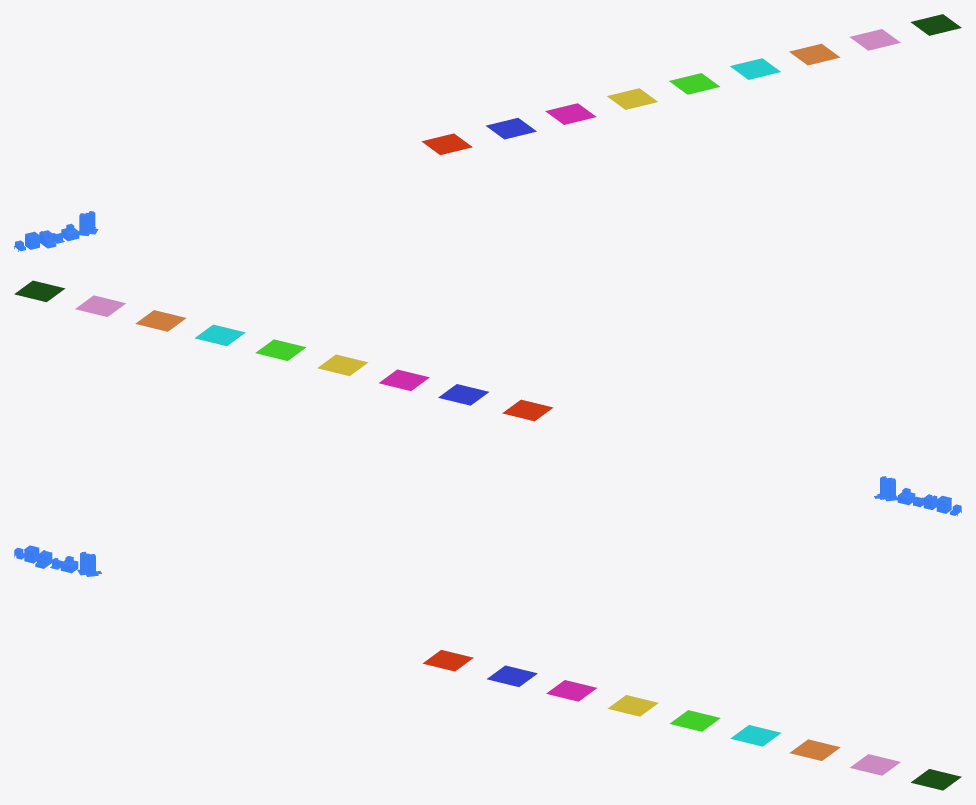
The picture shows the model from 3 angles, top to bottom: view 1: azimuth 30°, elevation 25°; view 2: azimuth 150°, elevation 25°; view 3: azimuth 330°, elevation 25°; orthographic projection.
Parts seen in each view (by area): view 1: Plane.003, Plane.008, Plane.004, Plane.006, Plane.007, Plane.009, Plane, Plane.005, Plane.002; view 2: Plane.004, Plane.006, Plane.007, Plane.009, Plane.002, Plane.003, Plane.008, Plane, Plane.005; view 3: Plane, Plane.005, Plane.008, Plane.002, Plane.004, Plane.006, Plane.007, Plane.003, Plane.009.
Part boxes in pixels (x1,y1,x2,y2): Plane.003: (545,103,596,124); Plane.008: (850,29,900,50); Plane.004: (607,88,657,109); Plane.006: (730,58,780,79); Plane.007: (789,43,840,65); Plane.009: (910,14,961,35); Plane: (421,133,472,154); Plane.005: (669,73,719,94); Plane.002: (486,118,536,139); Plane.004: (317,354,368,376); Plane.006: (195,324,245,345); Plane.007: (135,310,186,331); Plane.009: (14,280,65,302); Plane.002: (438,384,488,405); Plane.003: (379,369,429,390); Plane.008: (75,295,125,316); Plane: (502,399,553,421); Plane.005: (255,339,305,360); Plane: (422,650,473,671); Plane.005: (669,710,720,731); Plane.008: (850,754,900,775); Plane.002: (487,665,537,686); Plane.004: (607,695,658,716); Plane.006: (730,725,781,746); Plane.007: (789,739,840,760); Plane.003: (546,680,596,701); Plane.009: (911,769,961,790).
Size of the model in its own units: 330 by 6.42 by 11.54.
